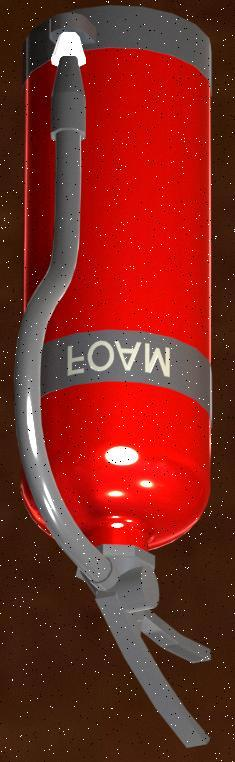Fire Extinguisher: (14, 0, 235, 754)
